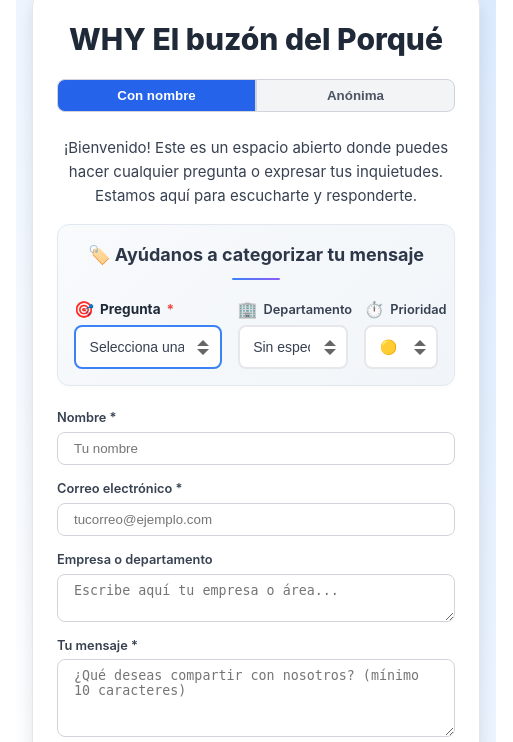
Test: InicioPlataformaWhy › Estado del formulario › debe habilitar botón cuando el formulario es válido en modo identificado
// Llenar campos obligatorios
Type "Juan Pérez" into the field with placeholder "Tu nombre".
click(256, 449); type("Juan Pérez")  # box [57,432,455,465]
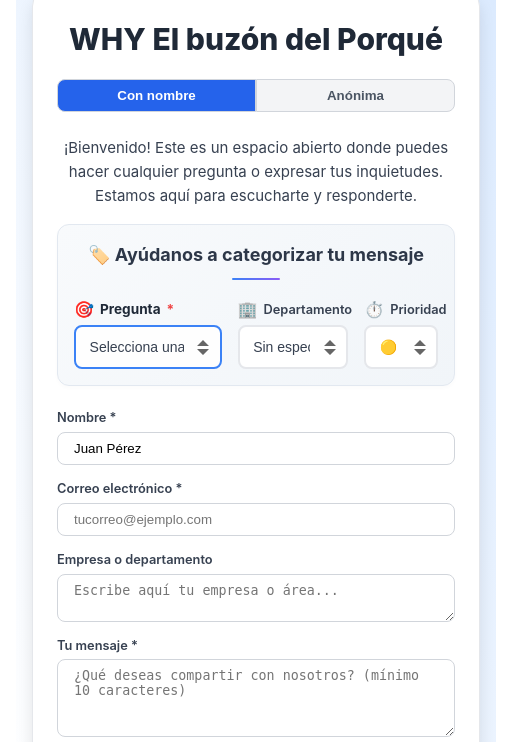
Type "juan@ecomac.cl" into the field with placeholder "tucorreo@ejemplo.com".
click(256, 519); type("juan@ecomac.cl")  # box [57,503,455,536]
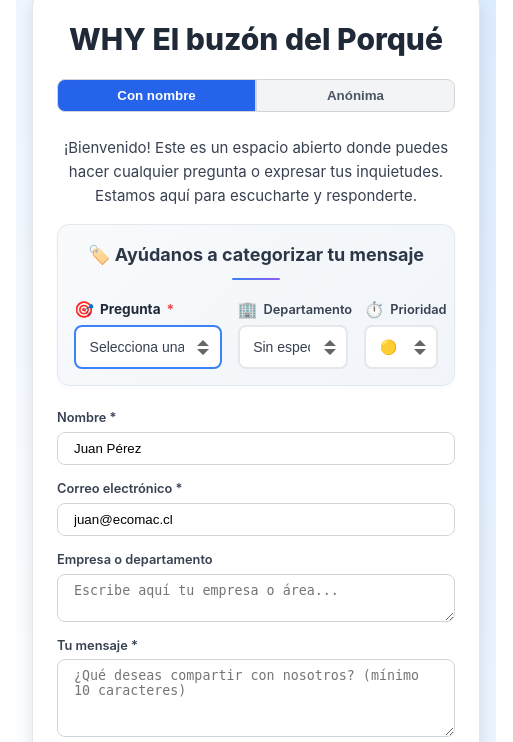
Type "Este es un mensaje válido con suficiente contenido" into the text box with placeholder "¿Qué deseas compartir con nosotros? (mínimo 10 caracteres)".
click(256, 698); type("Este es un mensaje válido con suficiente contenido")  # box [57,659,455,737]
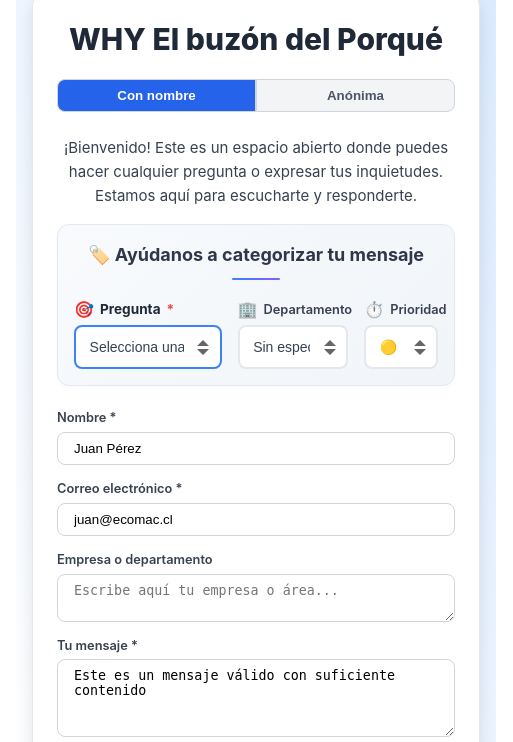
Select "❓ Pregunta" in the 1st dropdown at (148, 347), box [74,325,222,369]
(page scrolled)
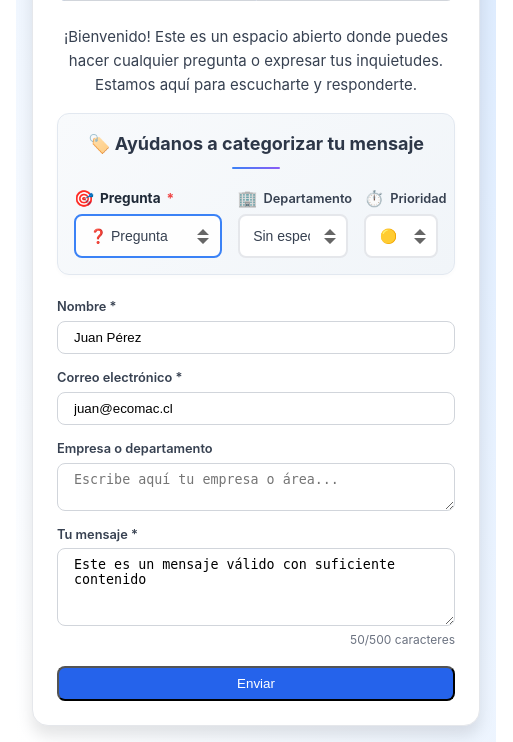
Check: the button with class "boton-enviar" is enabled, box [57,666,455,700]
